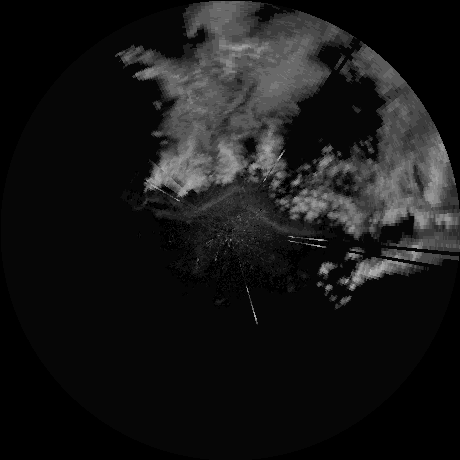frontgust: (148, 185, 261, 220), (247, 207, 331, 240)
